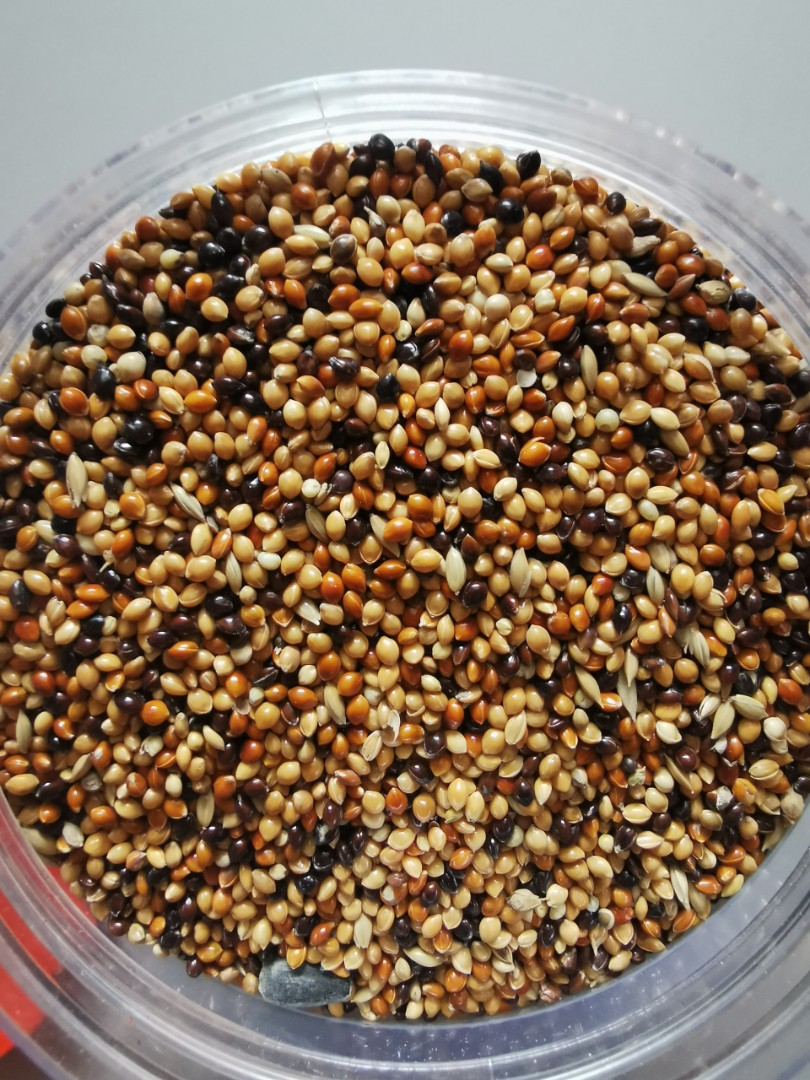seed: (4, 95, 810, 1078)
